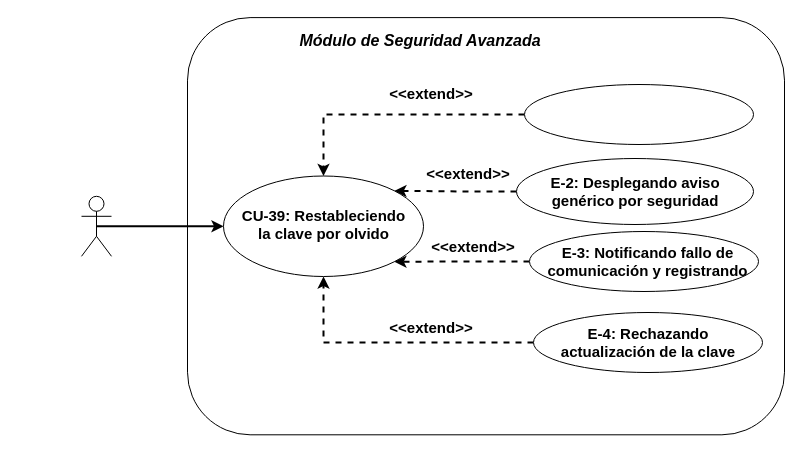
The diagram is 802 pixels wide and 453 high, and some of its shapes have lost their labels. Each missing label, with the centre of its shape:
"E-1: Bloqueando envío por campos vacíos" belongs at point (639, 114).
"Usuario No Autenticado" belongs at point (96, 225).
